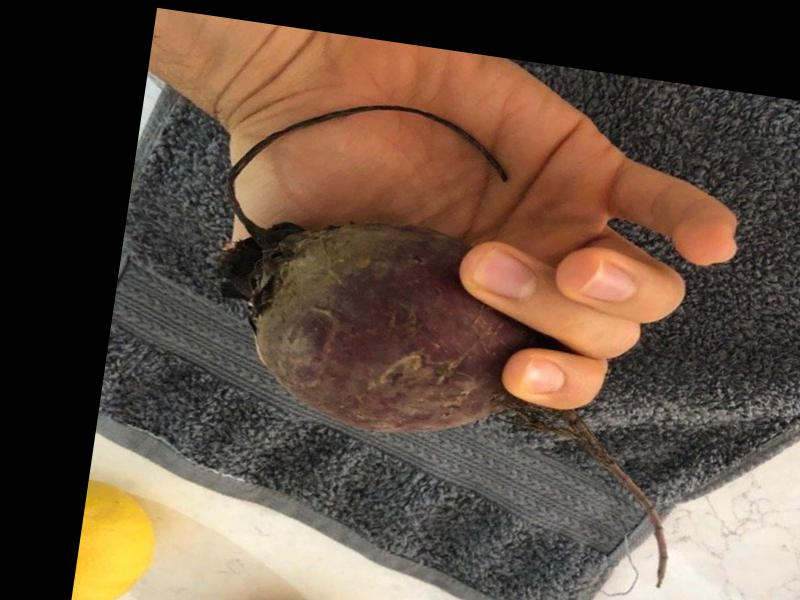Beet: (183, 83, 725, 588)
